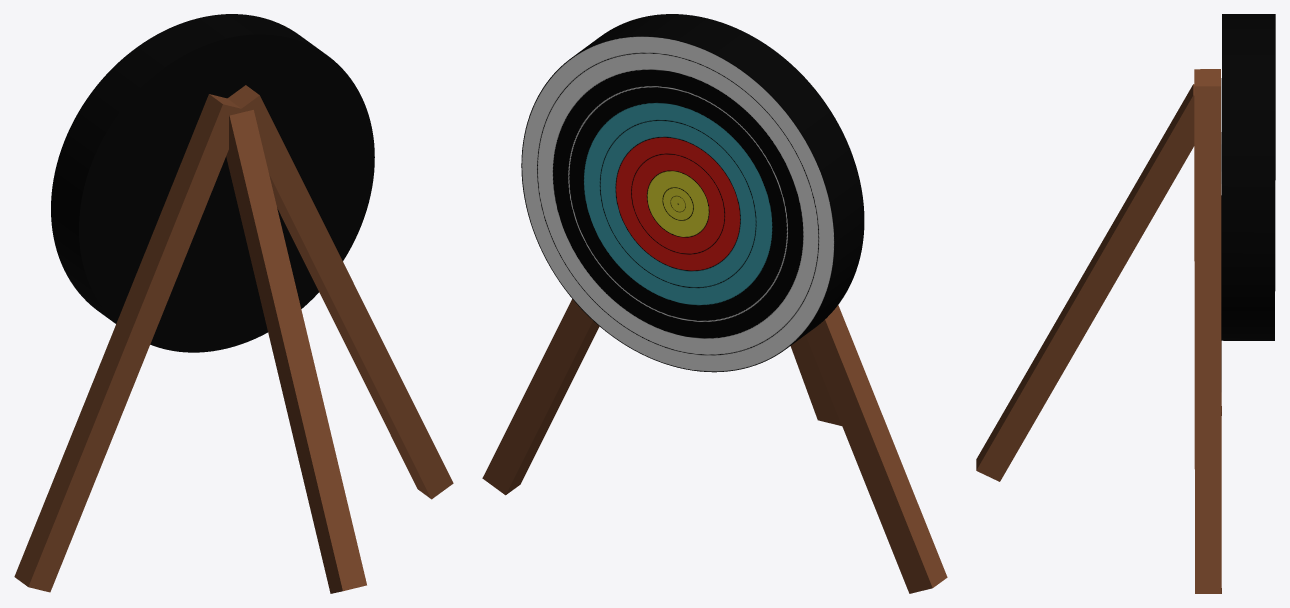
File: target.glb
3 renders of one model, left to right at view 1: azimuth 30°, elevation 25°; view 2: azimuth 150°, elevation 25°; view 3: azimuth 270°, elevation 25°, orthographic. The views are drawn at different scales.
Visible parts, largest first — view 1: Target; view 2: Target; view 3: Target.
Part boxes in pixels (box(x1,y1,x2,y2)): Target: box(14, 14, 453, 593); Target: box(482, 14, 947, 593); Target: box(976, 14, 1275, 593).
Bounding box in the file's own units: 3.51 × 3.92 × 2.24.
3 materials, 1 textured.
